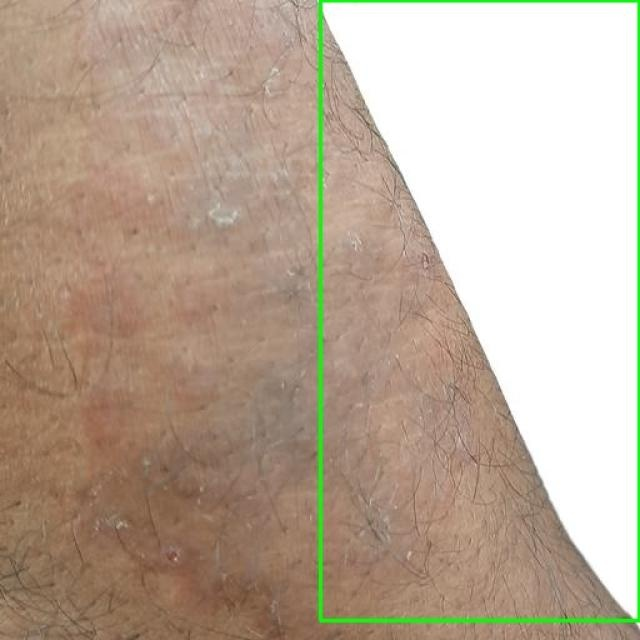Tinea Corporis: (320, 0, 639, 620)
